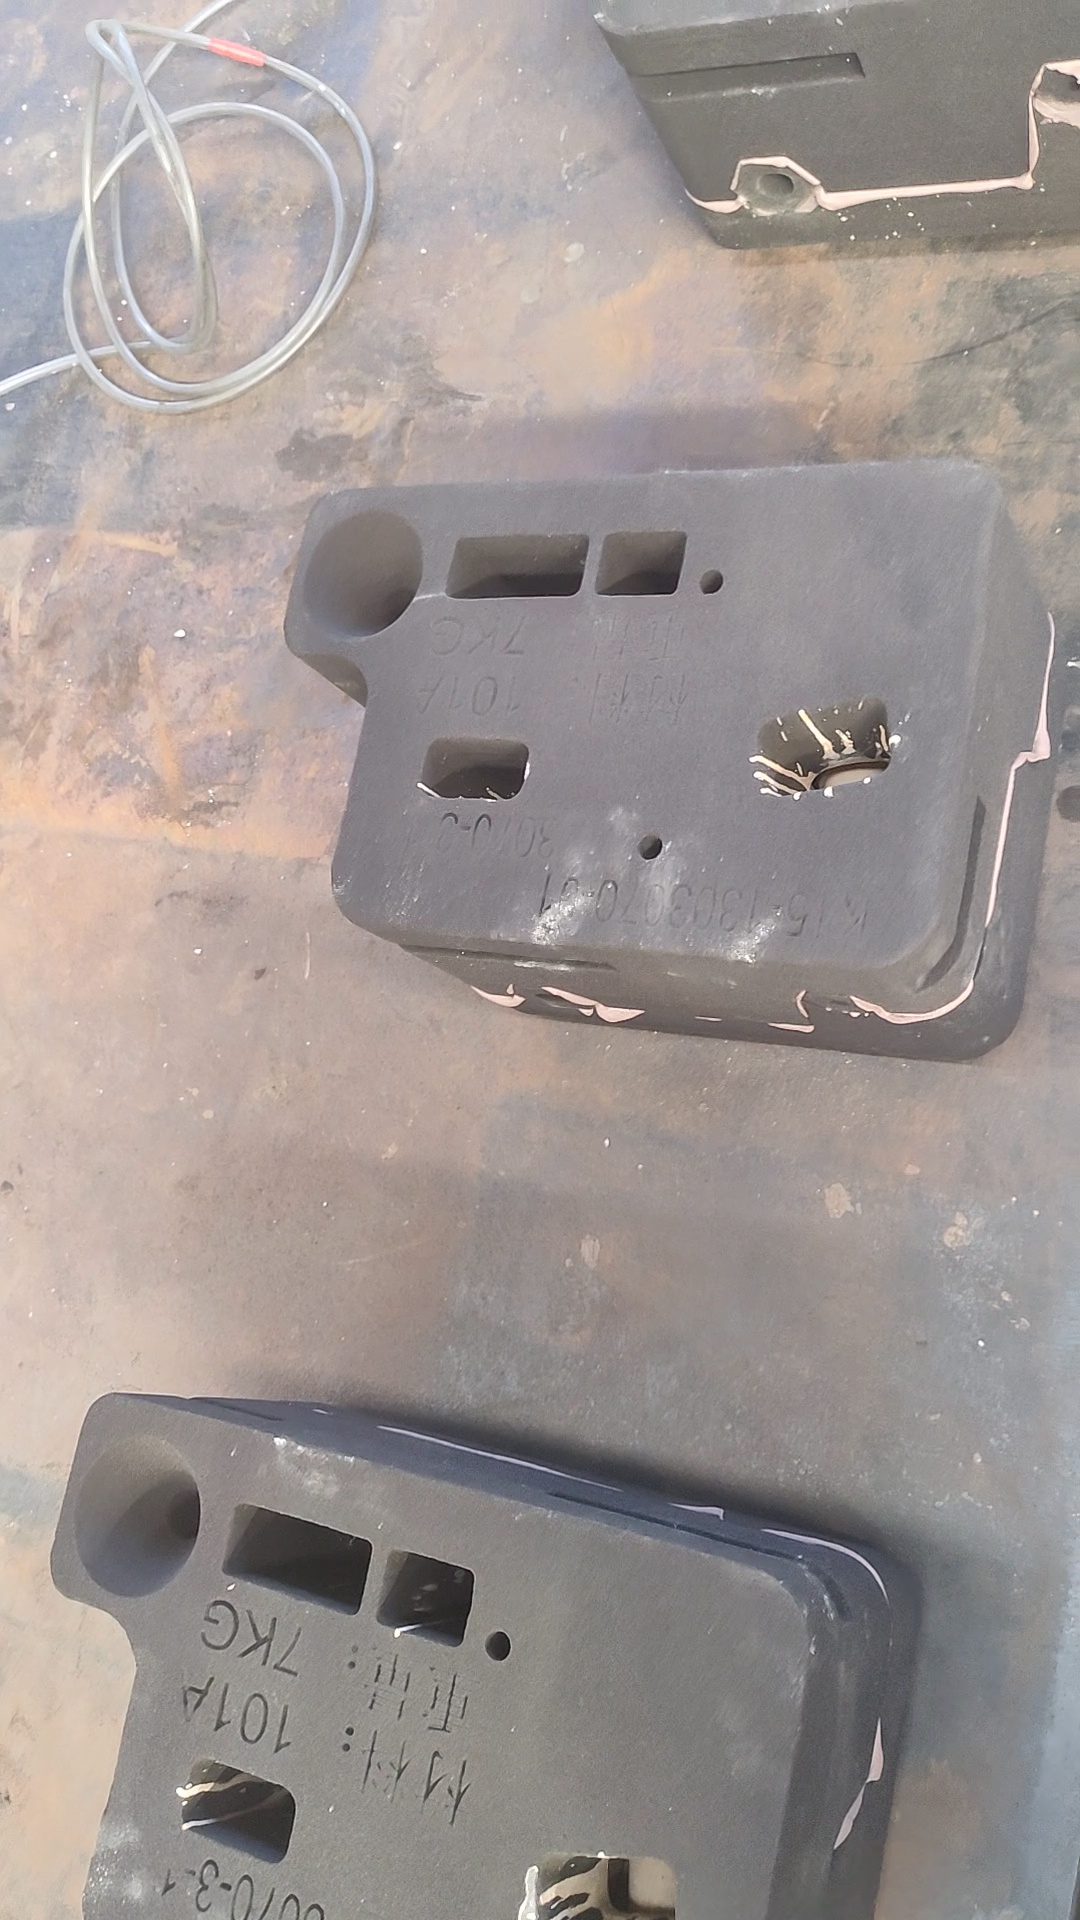pouring hole: (73, 1433, 203, 1598), (301, 510, 425, 640)
